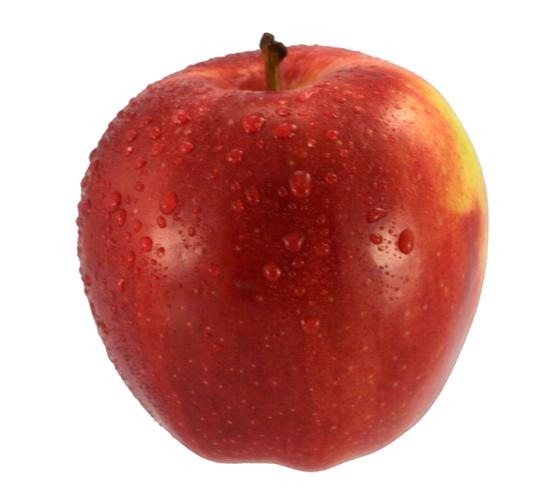apples: (43, 59, 518, 453)
